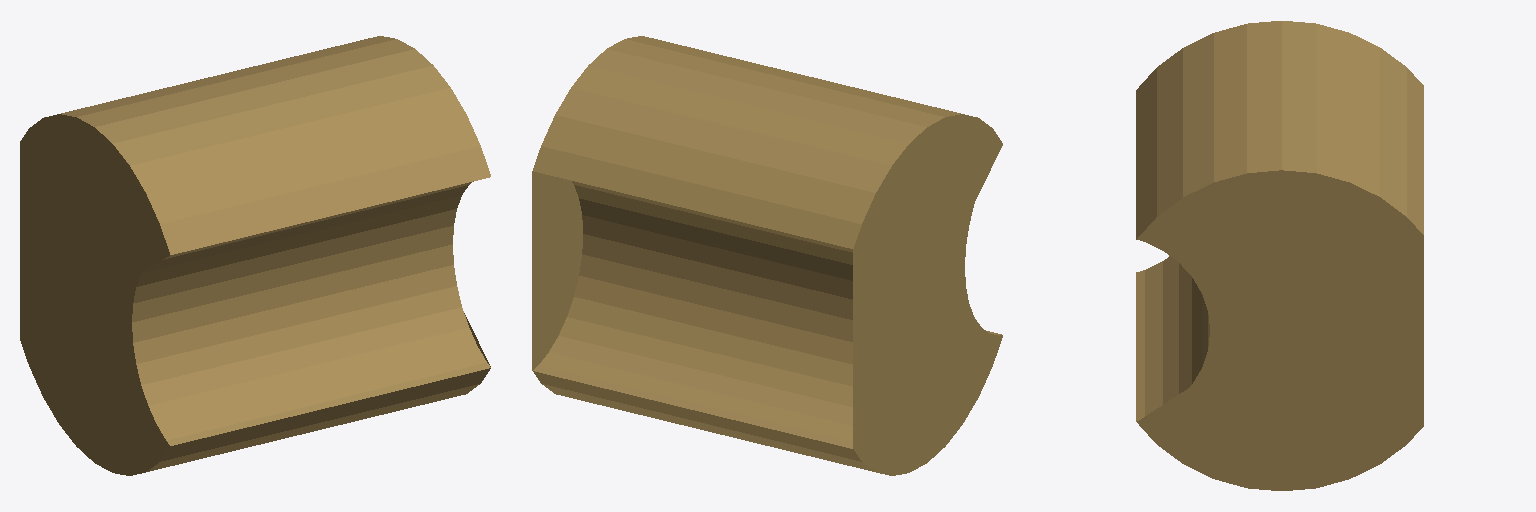
URDF robot description (object):
<?xml version="1.0"?>
<robot name="object">
  <link name="object">
    <visual>
      <origin xyz="0 0 0" rpy="0 1.5707963 0"/>
      <geometry>
        <mesh filename="meshes/set2/set_obj16_cylinder_axis.obj" scale=".03 .03 .03"/>
      </geometry>
      <material name="gold">
        <color rgba="0.68 0.58 0.38 1.0"/>
      </material>
    </visual>
    <collision>
  <origin xyz="0 0 0" rpy="0 1.5707963 0"/>
  <geometry>
    <mesh filename="meshes/set2/set_obj16_cylinder_axis_0decompose.obj" scale=".03 .03 .03"/>
<!--          <mesh filename="meshes/custom/obj0_ball.obj" scale=".05 .05 .05"/>-->
  </geometry>
</collision><collision>
  <origin xyz="0 0 0" rpy="0 1.5707963 0"/>
  <geometry>
    <mesh filename="meshes/set2/set_obj16_cylinder_axis_1decompose.obj" scale=".03 .03 .03"/>
<!--          <mesh filename="meshes/custom/obj0_ball.obj" scale=".05 .05 .05"/>-->
  </geometry>
</collision><collision>
  <origin xyz="0 0 0" rpy="0 1.5707963 0"/>
  <geometry>
    <mesh filename="meshes/set2/set_obj16_cylinder_axis_2decompose.obj" scale=".03 .03 .03"/>
<!--          <mesh filename="meshes/custom/obj0_ball.obj" scale=".05 .05 .05"/>-->
  </geometry>
</collision><collision>
  <origin xyz="0 0 0" rpy="0 1.5707963 0"/>
  <geometry>
    <mesh filename="meshes/set2/set_obj16_cylinder_axis_3decompose.obj" scale=".03 .03 .03"/>
<!--          <mesh filename="meshes/custom/obj0_ball.obj" scale=".05 .05 .05"/>-->
  </geometry>
</collision><collision>
  <origin xyz="0 0 0" rpy="0 1.5707963 0"/>
  <geometry>
    <mesh filename="meshes/set2/set_obj16_cylinder_axis_4decompose.obj" scale=".03 .03 .03"/>
<!--          <mesh filename="meshes/custom/obj0_ball.obj" scale=".05 .05 .05"/>-->
  </geometry>
</collision><collision>
  <origin xyz="0 0 0" rpy="0 1.5707963 0"/>
  <geometry>
    <mesh filename="meshes/set2/set_obj16_cylinder_axis_5decompose.obj" scale=".03 .03 .03"/>
<!--          <mesh filename="meshes/custom/obj0_ball.obj" scale=".05 .05 .05"/>-->
  </geometry>
</collision><collision>
  <origin xyz="0 0 0" rpy="0 1.5707963 0"/>
  <geometry>
    <mesh filename="meshes/set2/set_obj16_cylinder_axis_6decompose.obj" scale=".03 .03 .03"/>
<!--          <mesh filename="meshes/custom/obj0_ball.obj" scale=".05 .05 .05"/>-->
  </geometry>
</collision><collision>
  <origin xyz="0 0 0" rpy="0 1.5707963 0"/>
  <geometry>
    <mesh filename="meshes/set2/set_obj16_cylinder_axis_7decompose.obj" scale=".03 .03 .03"/>
<!--          <mesh filename="meshes/custom/obj0_ball.obj" scale=".05 .05 .05"/>-->
  </geometry>
</collision>

<!--    <collision>-->
<!--      <origin xyz="0 0 0" rpy="0 1.5707963 0"/>-->
<!--      <geometry>-->
<!--        <mesh filename="meshes/set2/set_obj16_cylinder_axis.obj" scale=".03 .03 .03"/>-->
<!--&lt;!&ndash;          <mesh filename="meshes/custom/obj0_ball.obj" scale=".05 .05 .05"/>&ndash;&gt;-->
<!--      </geometry>-->
<!--    </collision>-->
    <inertial>
      <density value="1000.0"/>
    </inertial>
  </link>
</robot>

--- Render facts (derived) ---
Views: 3 orthographic renders of the robot side by side, from view 1: azimuth 30°, elevation 25°; view 2: azimuth 150°, elevation 25°; view 3: azimuth 270°, elevation 25°.
Robot: object — 1 links, 0 joints (none); root link object; default pose: every joint at zero.
Visible links, largest first — view 1: object; view 2: object; view 3: object.
Boxes of the visible links, x1,y1,x2,y2 form: object: [20, 36, 490, 475]; object: [532, 36, 1002, 475]; object: [1136, 21, 1423, 490].
Size in the robot's own frame: 0.06 by 0.0486 by 0.06 metres.
1 mesh visuals loaded from 1 distinct referenced files (1 OBJ).
